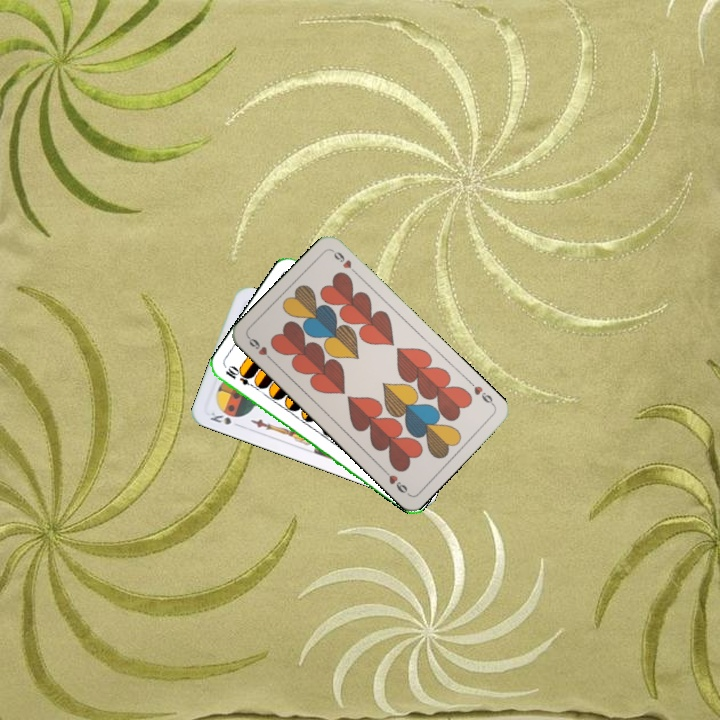E10: (221, 363, 259, 391)
H9: (244, 333, 277, 365), (465, 377, 497, 409)
SK: (206, 408, 244, 430)
